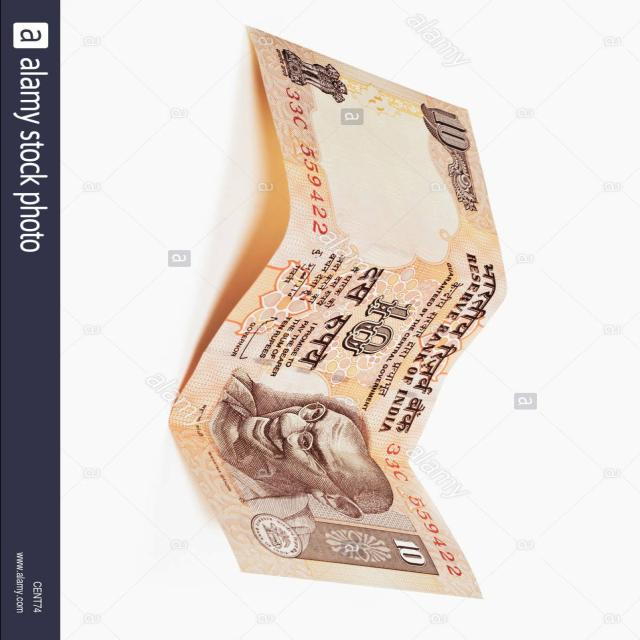10IndianRupees: (163, 29, 505, 590)
